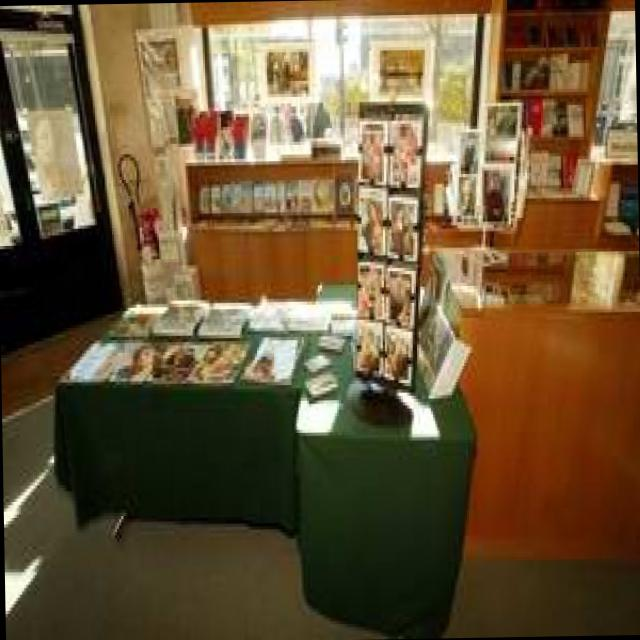2001: (180, 13, 487, 164)
book case: (567, 242, 622, 302), (564, 98, 583, 133), (526, 150, 544, 182)
bookcase crop: (179, 0, 634, 290)
books crop: (353, 115, 423, 386), (194, 176, 331, 217)
counter bottom: (419, 244, 640, 564)
double door occluded: (0, 4, 121, 354)
floor -X: (3, 273, 640, 639)
table -X: (50, 275, 473, 632)
wall clock: (76, 0, 635, 301)
